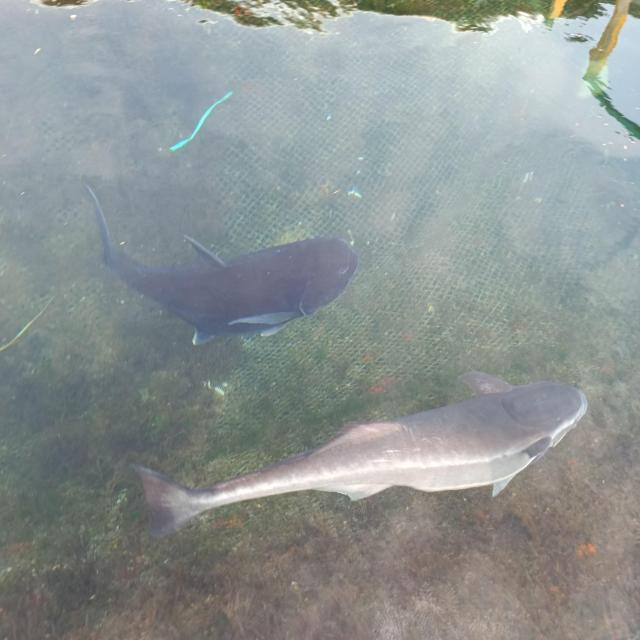ikan: (131, 369, 588, 540), (81, 177, 359, 347)
